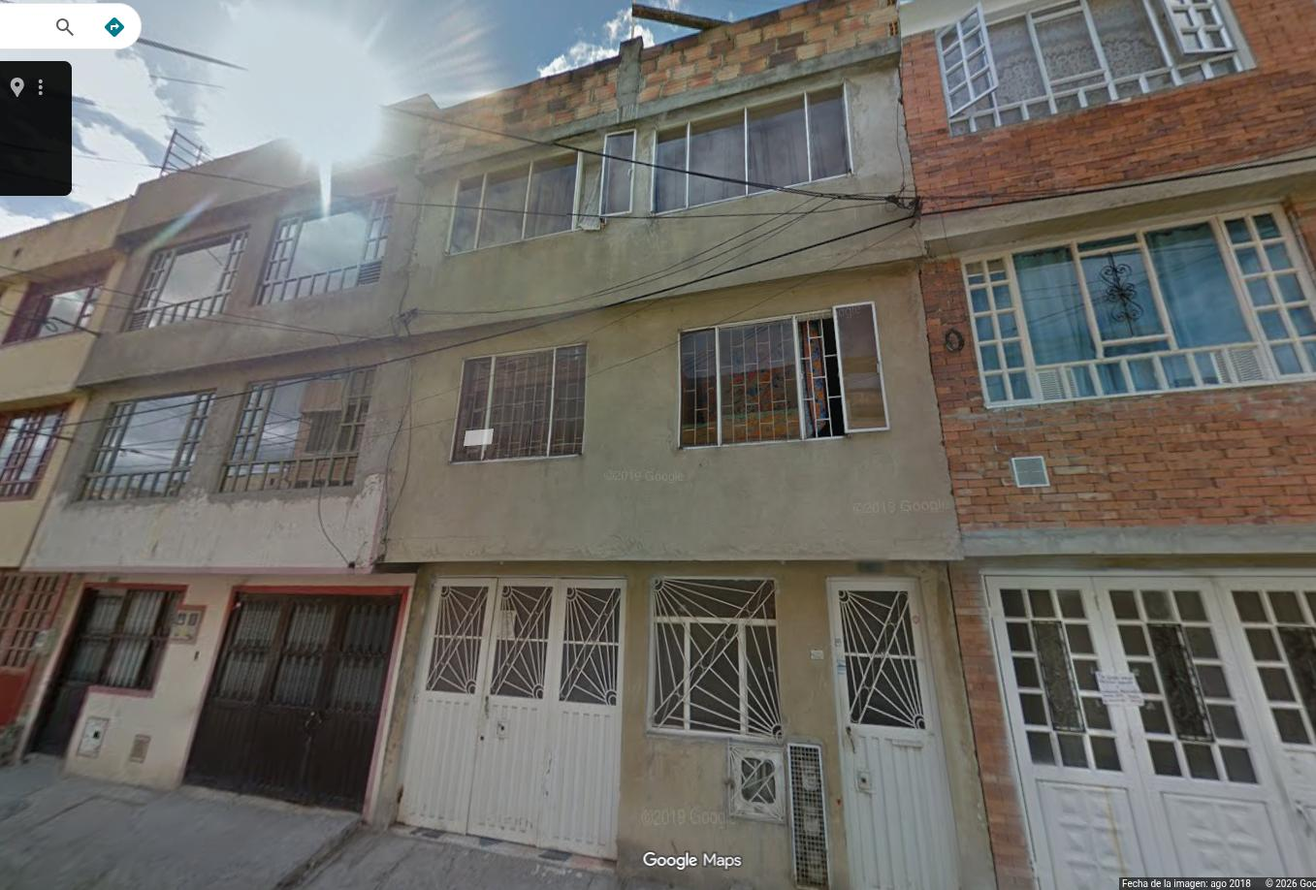casa: (385, 0, 994, 889), (24, 97, 442, 807)
